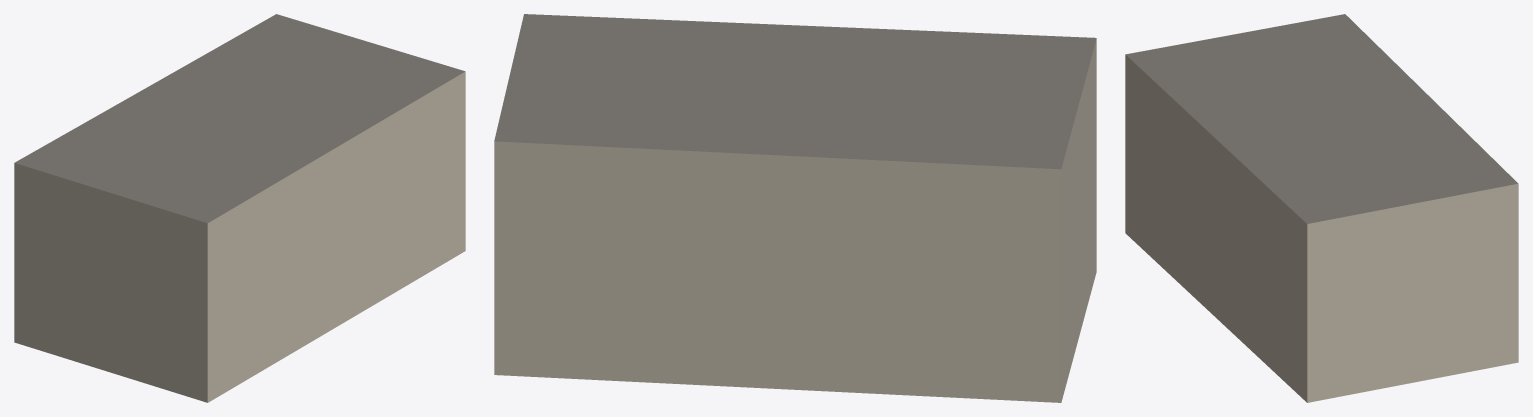
3 renders of one model, left to right at view 1: azimuth 30°, elevation 25°; view 2: azimuth 150°, elevation 25°; view 3: azimuth 270°, elevation 25°, orthographic. The views are drawn at different scales.
Visible parts, largest first — view 1: HP-w505636049; view 2: HP-w505636049; view 3: HP-w505636049.
Boxes of the visible parts, x1,y1,x2,y2 form: HP-w505636049: (14, 14, 465, 402); HP-w505636049: (494, 14, 1096, 402); HP-w505636049: (1125, 14, 1518, 402).
Bounding box in the file's own units: 45.33 × 18 × 35.85.
